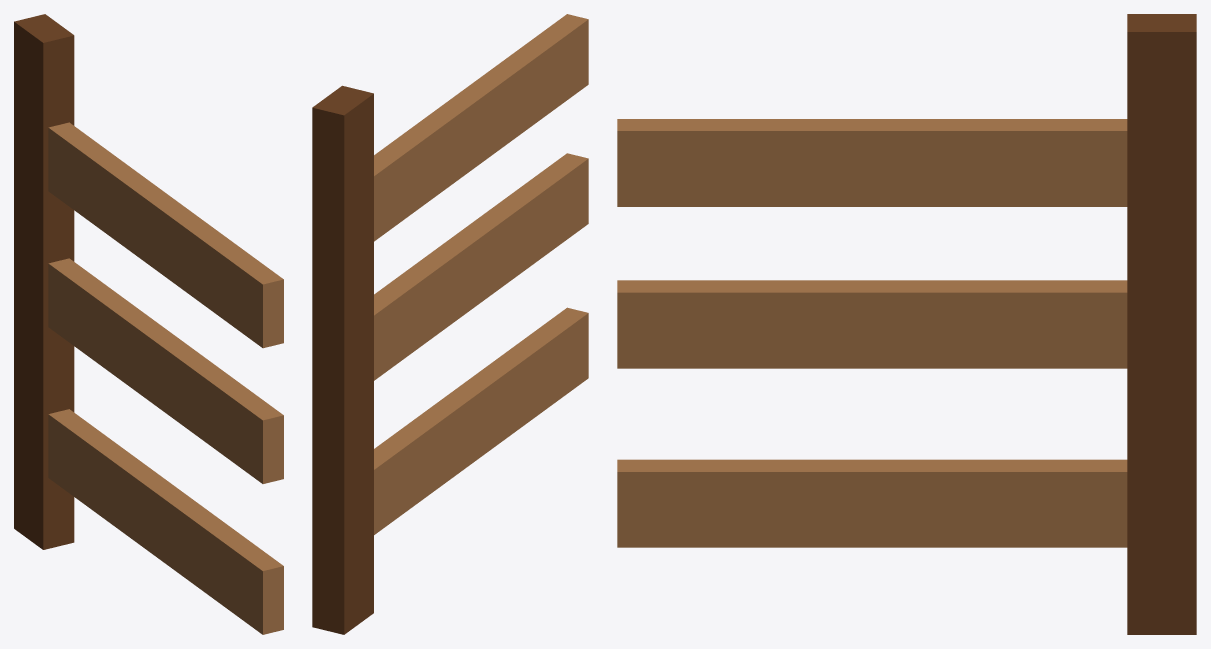
Rendered from Cit_2.fbx.
The picture shows the model from 3 angles, left to right: view 1: azimuth 30°, elevation 25°; view 2: azimuth 150°, elevation 25°; view 3: azimuth 270°, elevation 25°; orthographic projection. The views are drawn at different scales.
Visible parts, largest first — view 1: Cit_2; view 2: Cit_2; view 3: Cit_2.
Part boxes in pixels (bbox=[...]): Cit_2: bbox=[14, 14, 283, 634]; Cit_2: bbox=[312, 14, 588, 634]; Cit_2: bbox=[617, 14, 1196, 634].
Bounding box in the file's own units: 38.85 × 604 × 526.
